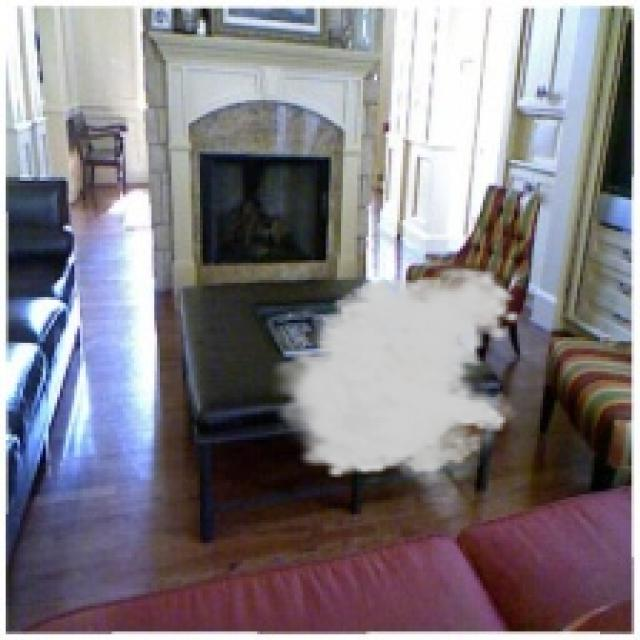smoke: (266, 266, 523, 491)
